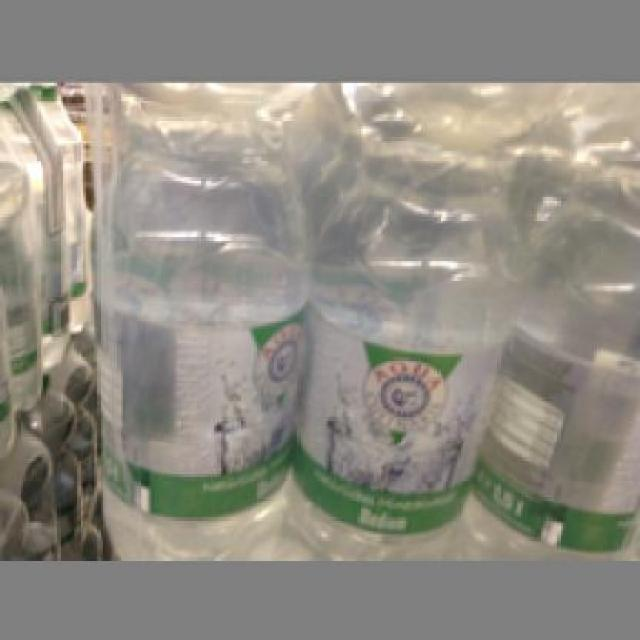Water: (290, 80, 566, 549), (77, 79, 303, 555), (465, 80, 638, 549)
